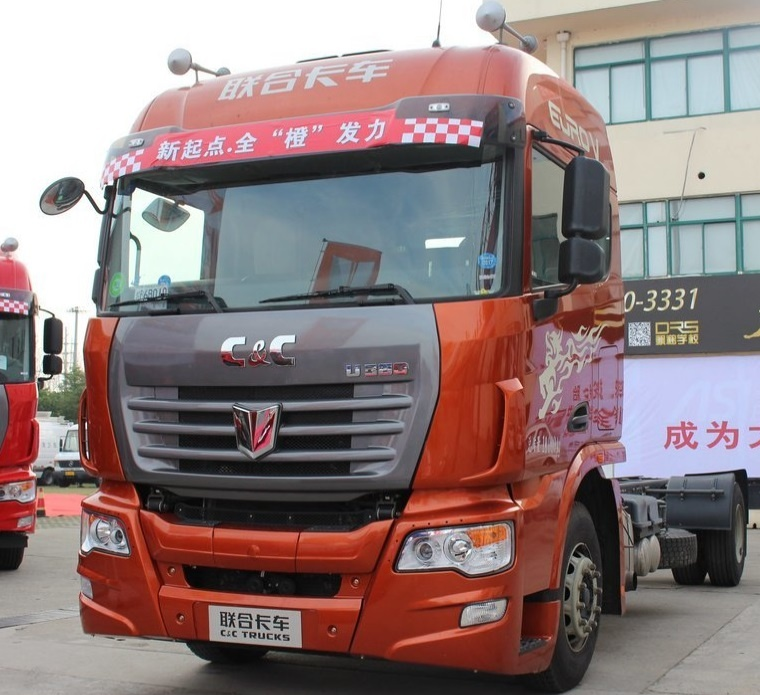heavy truck: (43, 59, 743, 683)
